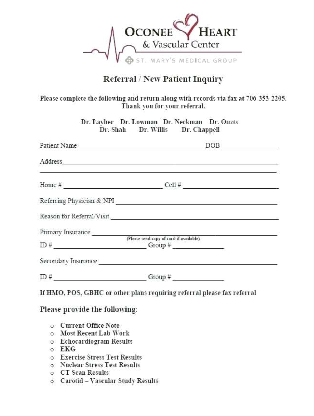textline: (39, 166, 280, 176), (90, 227, 280, 239), (108, 209, 279, 222), (61, 157, 281, 167), (95, 254, 278, 266), (112, 195, 279, 206), (75, 140, 206, 151), (52, 239, 148, 251), (53, 270, 149, 282), (181, 180, 281, 191), (62, 180, 164, 190), (220, 138, 277, 152), (170, 240, 227, 251), (170, 272, 226, 282)
